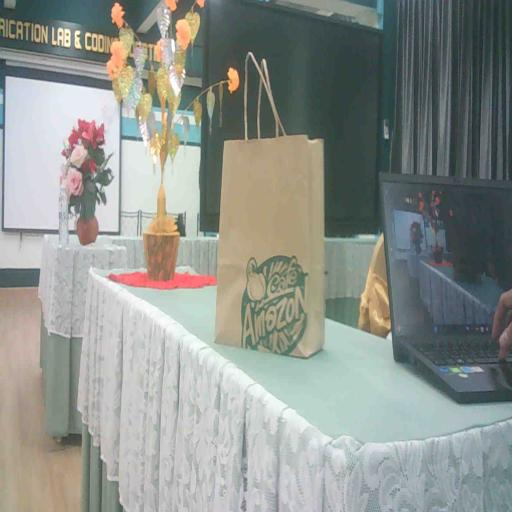bag: (208, 136, 340, 371)
